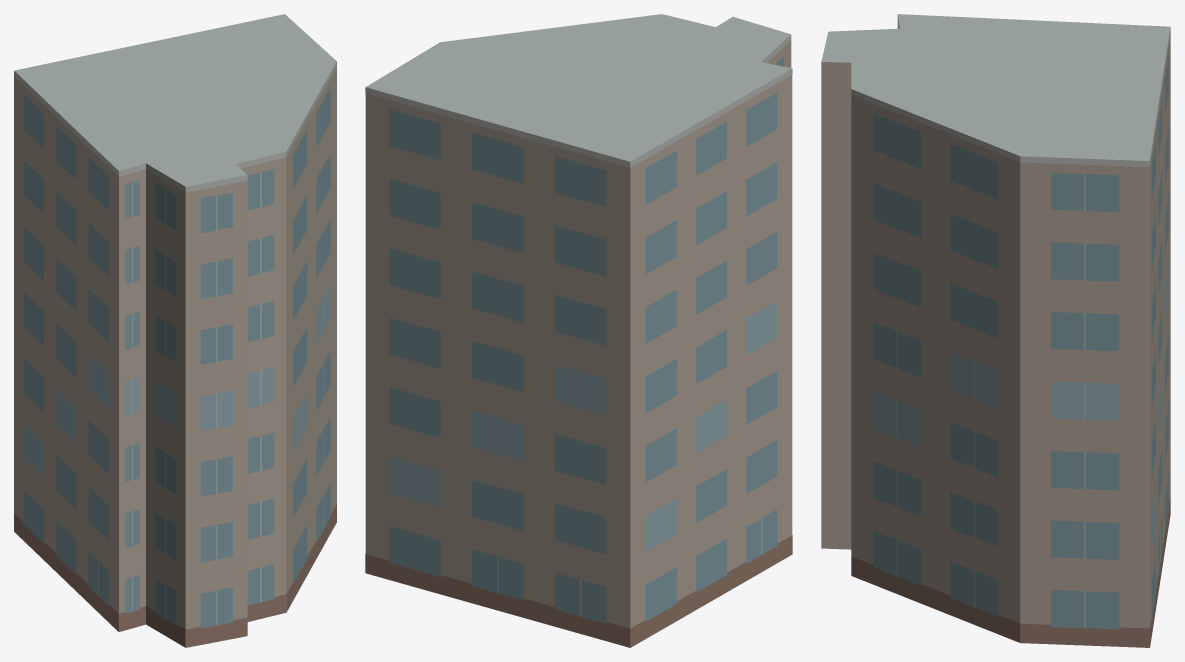
The model's file is survey-upis-32504580.glb.
3 views of the same model, side by side, from view 1: azimuth 30°, elevation 25°; view 2: azimuth 150°, elevation 25°; view 3: azimuth 270°, elevation 25° (orthographic). The views are drawn at different scales.
Visible parts, largest first — view 1: survey-upis-32504580.tmp; view 2: survey-upis-32504580.tmp; view 3: survey-upis-32504580.tmp.
Part boxes in pixels (box(x1,y1,x2,y2)): survey-upis-32504580.tmp: box(14, 14, 336, 647); survey-upis-32504580.tmp: box(365, 14, 792, 647); survey-upis-32504580.tmp: box(821, 14, 1170, 647).
Size of the model in its own units: 12.65 by 19.5 by 12.69.
